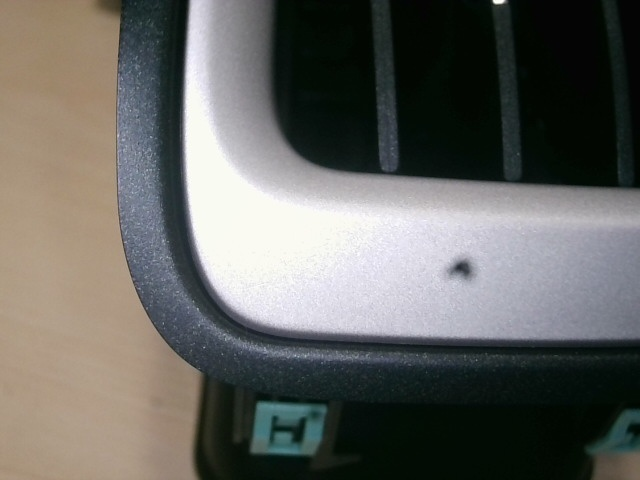NG: (240, 277, 281, 298)
